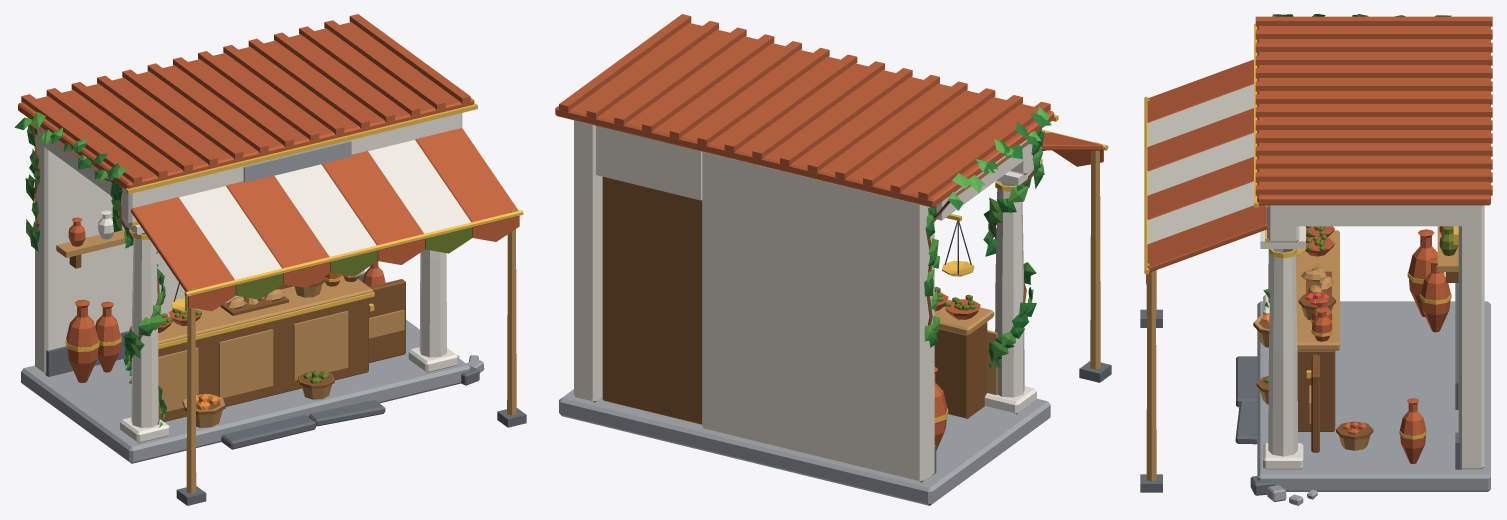
File: ancient-market-stall.glb
3 views of the same model, side by side, from view 1: azimuth 30°, elevation 25°; view 2: azimuth 150°, elevation 25°; view 3: azimuth 270°, elevation 25° (orthographic). The views are drawn at different scales.
Parts seen in each view (by area): view 1: Roof_Tiles, Roof_Slab, Plinth, BackWall_L, Counter_Body, Awning_Stripe_0, Awning_Stripe_6, Awning_Stripe_2, Awning_Stripe_4, Awning_Stripe_1, Awning_Stripe_5, Awning_Stripe_3 (+34 smaller); view 2: BackWall_L, Roof_Tiles, Roof_Slab, Door, Plinth, BackWall_R, Lintel, Column_L_Shaft, Counter_Body, Ivy_Leaves_Dark, Ivy_Leaves, AwningPole_L (+6 smaller); view 3: Roof_Tiles, Plinth, Roof_Slab, BackWall_R, Column_R_Shaft, Beam_Side_R, Awning_Stripe_6, Awning_Stripe_2, Awning_Stripe_4, Awning_Stripe_0, Awning_Stripe_3, Awning_Stripe_1 (+18 smaller).
Part boxes in pixels (<box>): Roof_Tiles: <box>21,14,470,183</box>; Roof_Slab: <box>18,22,474,188</box>; Plinth: <box>21,319,470,463</box>; BackWall_L: <box>35,130,240,373</box>; Counter_Body: <box>158,298,368,421</box>; Awning_Stripe_0: <box>131,197,234,296</box>; Awning_Stripe_6: <box>415,128,518,227</box>; Awning_Stripe_2: <box>226,175,329,273</box>; Awning_Stripe_4: <box>321,151,424,250</box>; Awning_Stripe_1: <box>179,186,281,279</box>; Awning_Stripe_5: <box>368,140,470,233</box>; Awning_Stripe_3: <box>274,164,376,256</box>; BackWall_L: <box>702,151,934,482</box>; Roof_Tiles: <box>559,14,1050,199</box>; Roof_Slab: <box>555,23,1054,207</box>; Door: <box>602,176,702,424</box>; Plinth: <box>559,389,1050,505</box>; BackWall_R: <box>574,120,602,402</box>; Lintel: <box>596,125,702,200</box>; Column_L_Shaft: <box>995,185,1024,397</box>; Counter_Body: <box>934,322,987,418</box>; Ivy_Leaves_Dark: <box>924,113,1051,368</box>; Ivy_Leaves: <box>924,107,1049,370</box>; AwningPole_L: <box>1090,142,1100,369</box>; Roof_Tiles: <box>1255,16,1492,195</box>; Plinth: <box>1257,301,1490,491</box>; Roof_Slab: <box>1257,26,1490,205</box>; BackWall_R: <box>1458,205,1484,469</box>; Column_R_Shaft: <box>1268,254,1297,456</box>; Beam_Side_R: <box>1296,205,1461,226</box>; Awning_Stripe_6: <box>1147,205,1268,272</box>; Awning_Stripe_2: <box>1147,108,1253,171</box>; Awning_Stripe_4: <box>1147,157,1253,219</box>; Awning_Stripe_0: <box>1147,59,1253,122</box>; Awning_Stripe_3: <box>1148,133,1253,195</box>; Awning_Stripe_1: <box>1148,84,1253,146</box>.
Bounding box in the file's own units: 14.33 × 10.43 × 10.85.
